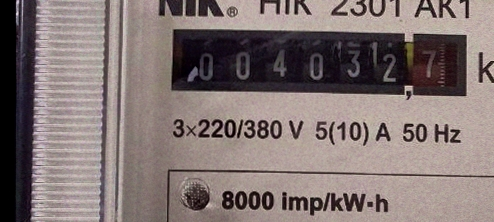0: (231, 49, 251, 82), (195, 49, 214, 82), (305, 49, 324, 82)
2: (379, 50, 397, 84)
3: (343, 47, 361, 79)
4: (268, 46, 288, 82)
7: (420, 47, 437, 80)
screen: (160, 21, 474, 108)
